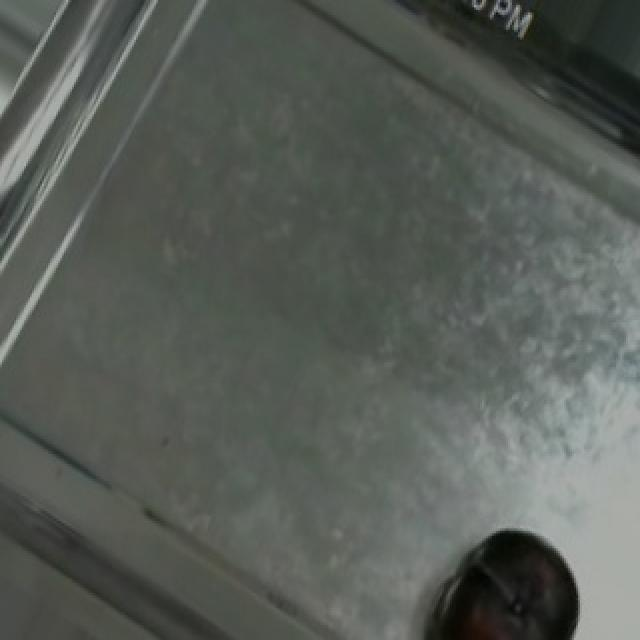Fruit: (432, 516, 592, 640)
